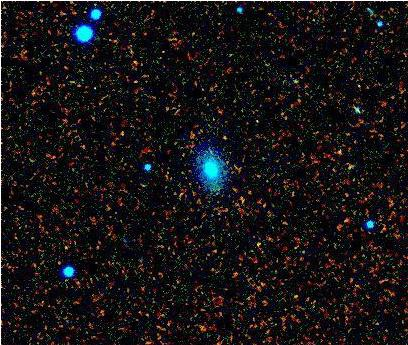star: (328, 203, 358, 233)
